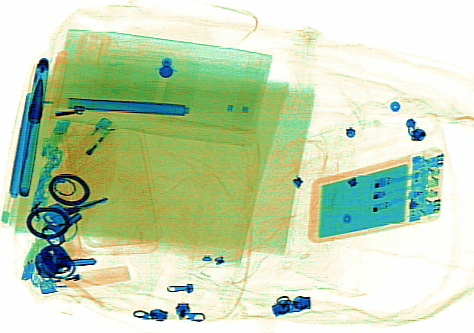lighter: (60, 114, 114, 174), (35, 263, 129, 296)
